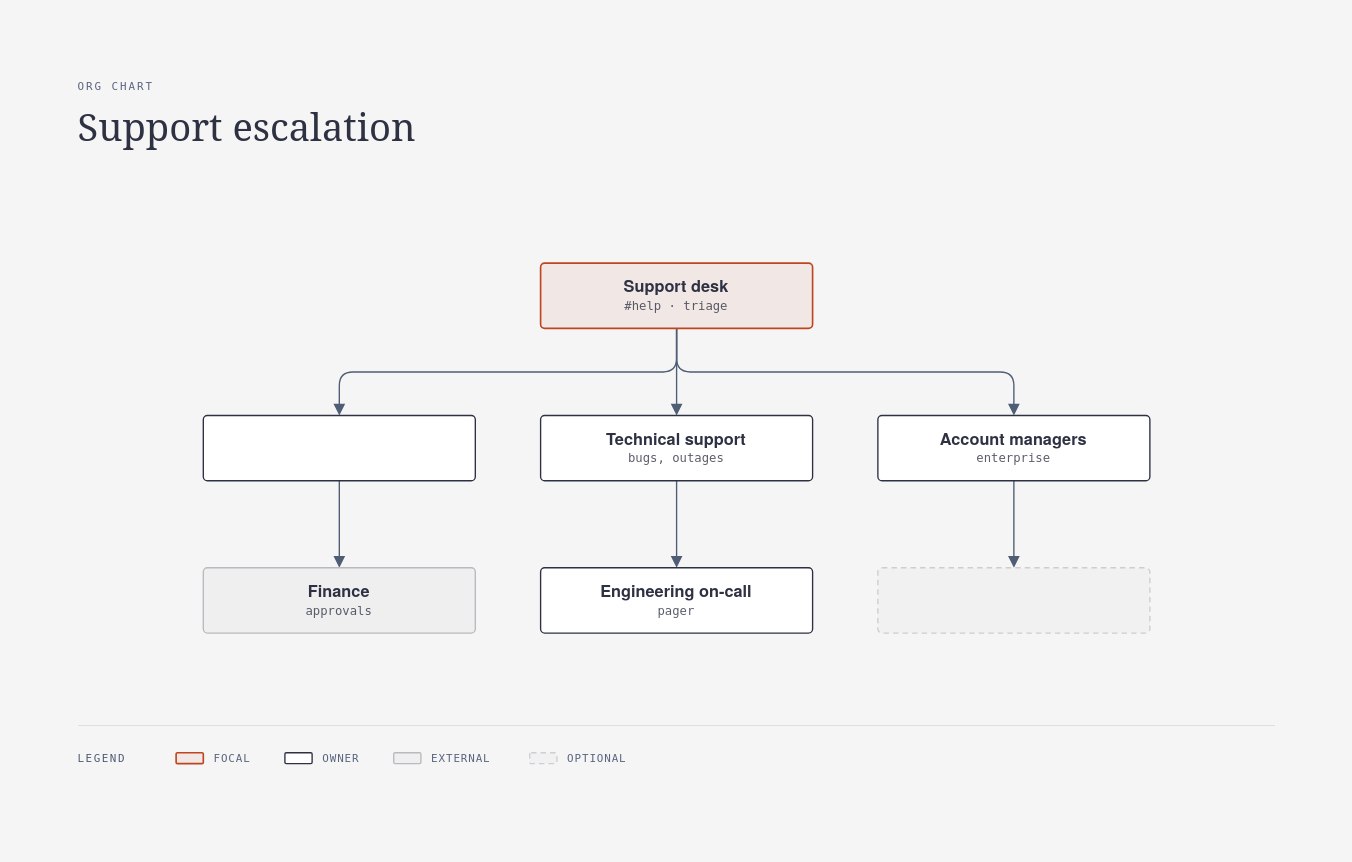
Some shapes in this 1352 by 862 pixel diagram are drawn without their labels. Each missing label, with the box of its shape:
Billing team refunds, invoices: (202, 414, 475, 481)
Triage agent not live yet: (877, 566, 1150, 633)
